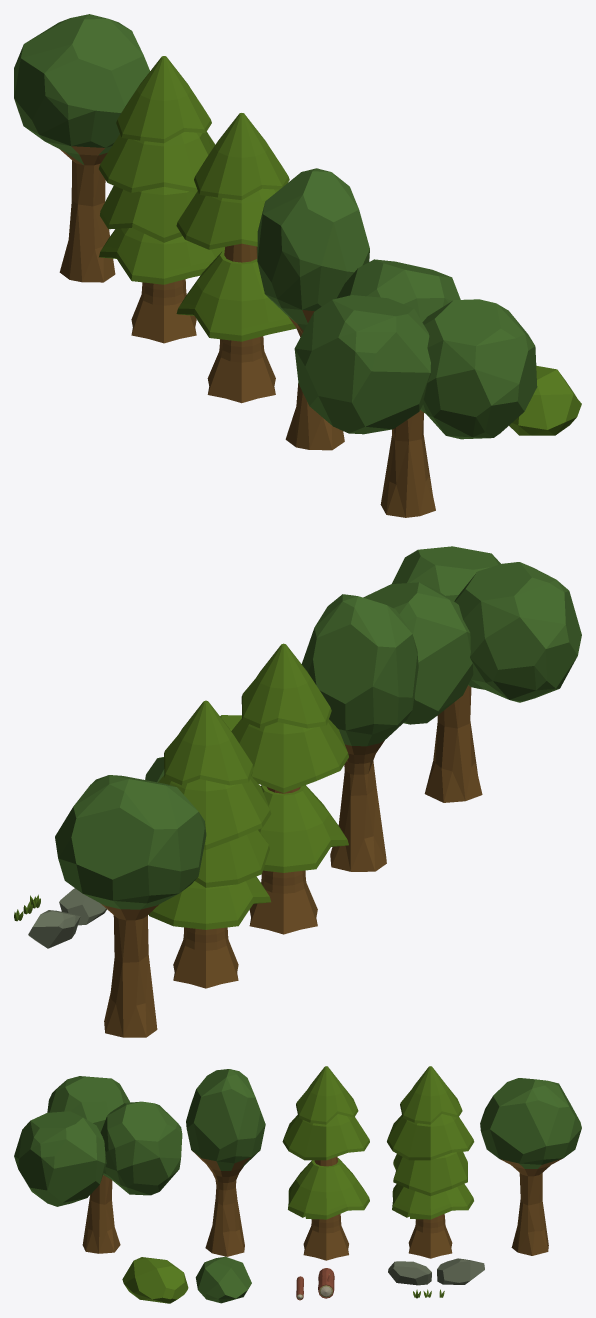
File: Lowpoly_3D_Nature.fbx
3 views of the same model, one above another, from view 1: azimuth 30°, elevation 25°; view 2: azimuth 150°, elevation 25°; view 3: azimuth 270°, elevation 25° (orthographic). The views are drawn at different scales.
Parts seen in each view (by area): view 1: Round_Tree.003, Pine_Tree, Pine_Tree.001, Round_Tree, Round_Tree.001, Shrub; view 2: Round_Tree.003, Round_Tree, Pine_Tree.001, Pine_Tree, Round_Tree.001, Lg_Rock.001, Lg_Rock_2.001; view 3: Round_Tree.003, Pine_Tree, Pine_Tree.001, Round_Tree, Round_Tree.001, Shrub, Shrub-2, Lg_Rock.001, Lg_Rock_2.001, Log.002.
Boxes of the visible parts, left/top/right/bottom form: Round_Tree.003: left=294, top=259, right=537, bottom=517; Pine_Tree: left=99, top=56, right=224, bottom=343; Pine_Tree.001: left=176, top=113, right=296, bottom=403; Round_Tree: left=14, top=14, right=149, bottom=282; Round_Tree.001: left=257, top=168, right=369, bottom=450; Shrub: left=509, top=365, right=581, bottom=435; Round_Tree.003: left=363, top=546, right=581, bottom=802; Round_Tree: left=55, top=775, right=206, bottom=1037; Pine_Tree.001: left=231, top=643, right=348, bottom=934; Pine_Tree: left=148, top=700, right=271, bottom=988; Round_Tree.001: left=301, top=594, right=418, bottom=871; Lg_Rock.001: left=28, top=910, right=80, bottom=948; Lg_Rock_2.001: left=59, top=888, right=106, bottom=925; Round_Tree.003: left=14, top=1076, right=182, bottom=1253; Pine_Tree: left=387, top=1066, right=474, bottom=1258; Pine_Tree.001: left=282, top=1066, right=369, bottom=1260; Round_Tree: left=480, top=1078, right=581, bottom=1255; Round_Tree.001: left=186, top=1069, right=265, bottom=1256; Shrub: left=122, top=1257, right=188, bottom=1303; Shrub-2: left=195, top=1256, right=251, bottom=1303; Lg_Rock.001: left=437, top=1258, right=484, bottom=1284; Lg_Rock_2.001: left=388, top=1261, right=431, bottom=1285; Log.002: left=318, top=1268, right=334, bottom=1298.
Size of the model in its own units: 406 by 327 by 921.
2 materials, 2 textured.
